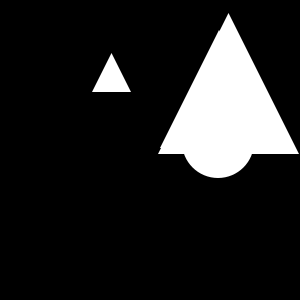rectangle: (182, 106, 254, 178)
triangle: (158, 13, 299, 154), (160, 30, 278, 148), (92, 53, 131, 92)
